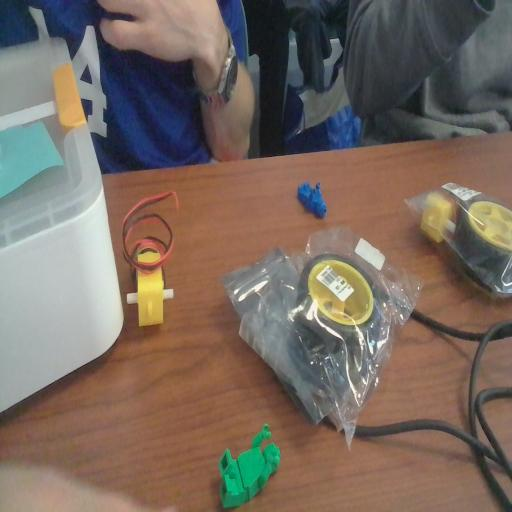green LEGO minifig: (210, 419, 286, 512)
